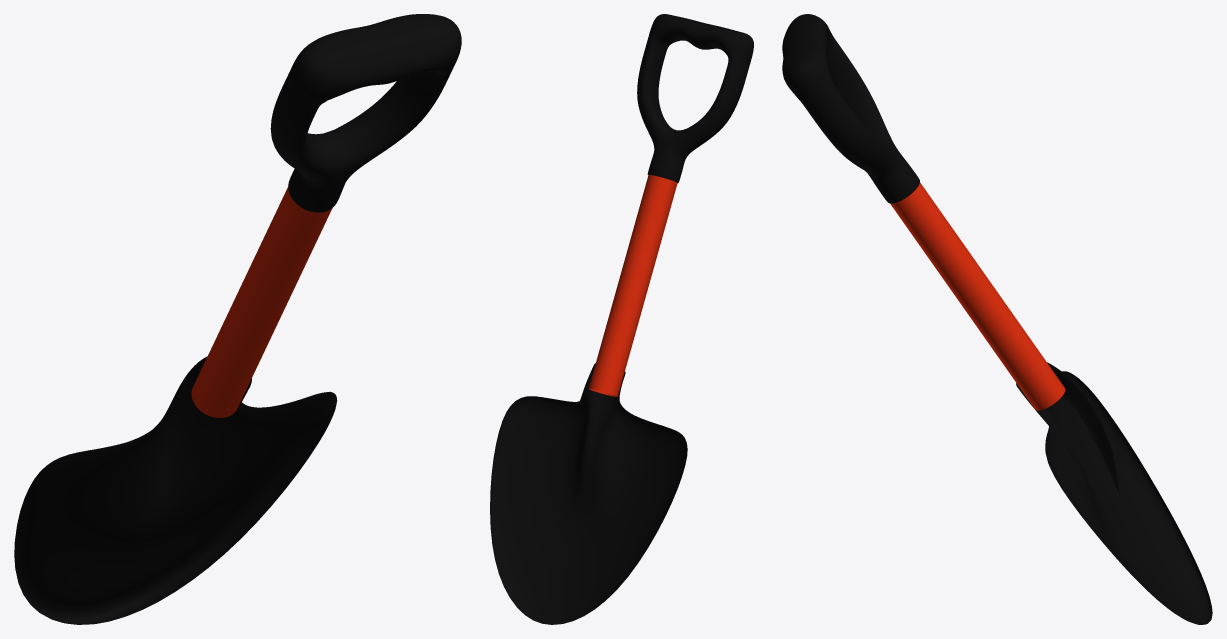
The model's file is Spade.obj.
3 renders of one model, left to right at view 1: azimuth 30°, elevation 25°; view 2: azimuth 150°, elevation 25°; view 3: azimuth 270°, elevation 25°, orthographic. The views are drawn at different scales.
Visible parts, largest first — view 1: Circle, Circle.002, Circle.001; view 2: Circle, Circle.002, Circle.001; view 3: Circle, Circle.002, Circle.001.
Boxes of the visible parts, <box> form: Circle: <box>14,356,337,624</box>; Circle.002: <box>270,14,461,212</box>; Circle.001: <box>191,187,332,417</box>; Circle: <box>490,363,687,624</box>; Circle.002: <box>637,14,753,182</box>; Circle.001: <box>588,174,677,397</box>; Circle: <box>1016,362,1212,624</box>; Circle.002: <box>782,14,919,203</box>; Circle.001: <box>890,182,1065,410</box>.
Bounding box in the file's own units: 5.24 × 13.21 × 8.8.
